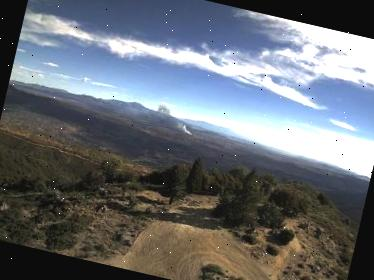smoke: (150, 101, 201, 137)
